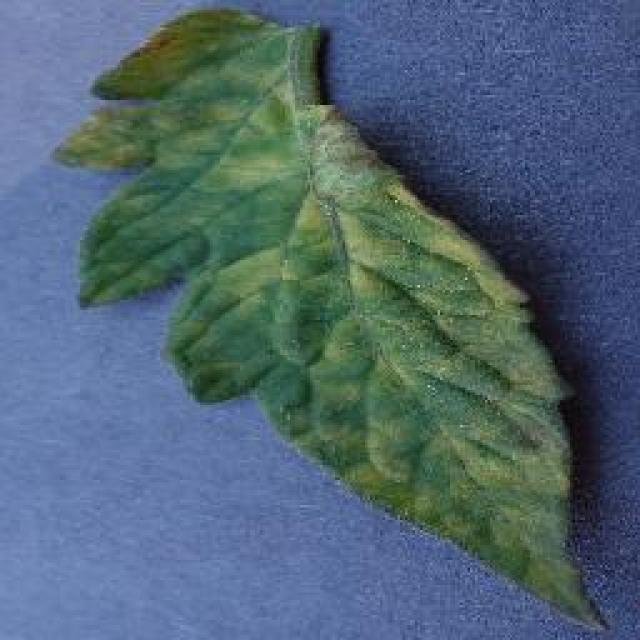Tomato mold leaf: (69, 11, 606, 634)
